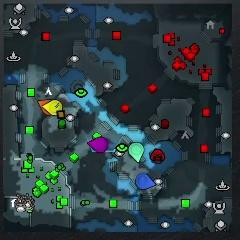p1: (135, 174, 155, 190)
p2: (128, 142, 144, 162)
p3: (87, 136, 109, 153)
p4: (41, 99, 64, 116)
p5: (37, 98, 52, 115)
